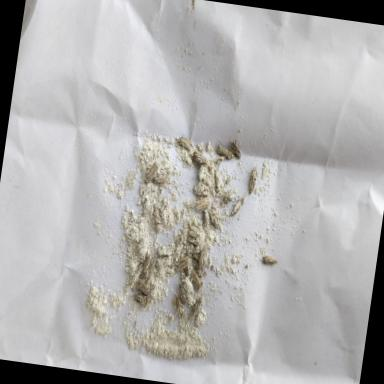pbw: (168, 288, 188, 320), (150, 203, 168, 232), (204, 206, 224, 231), (228, 192, 246, 219), (216, 186, 238, 208), (172, 278, 191, 303), (188, 291, 204, 320), (128, 290, 150, 310), (247, 162, 260, 195), (129, 261, 143, 290), (132, 237, 148, 262), (187, 267, 204, 290), (186, 150, 208, 167), (195, 207, 211, 230), (144, 160, 159, 184), (214, 139, 232, 159), (176, 132, 194, 152), (155, 240, 175, 258), (228, 138, 244, 160), (172, 233, 184, 262), (172, 253, 190, 272), (132, 276, 150, 295), (144, 256, 156, 284), (184, 224, 204, 240), (213, 163, 224, 192), (192, 180, 210, 196), (148, 174, 168, 187), (201, 243, 211, 268), (197, 244, 206, 271), (194, 196, 210, 210), (210, 153, 226, 167), (262, 254, 278, 266), (142, 249, 150, 273), (186, 236, 202, 246)
